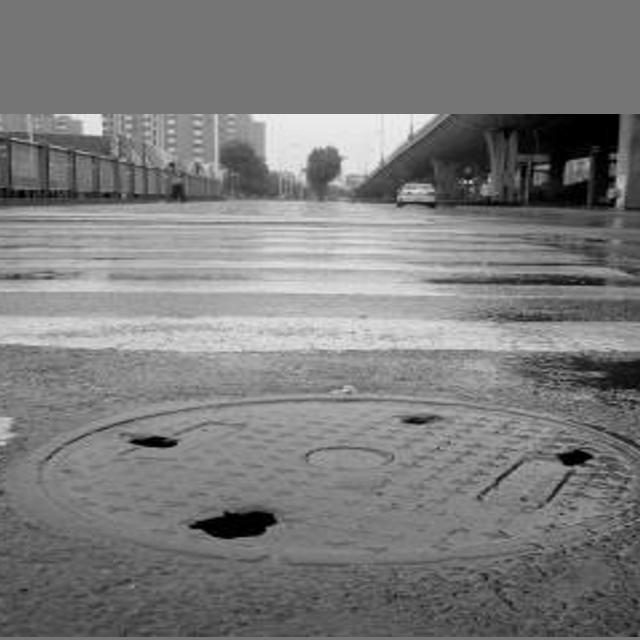broke: (0, 409, 640, 555)
